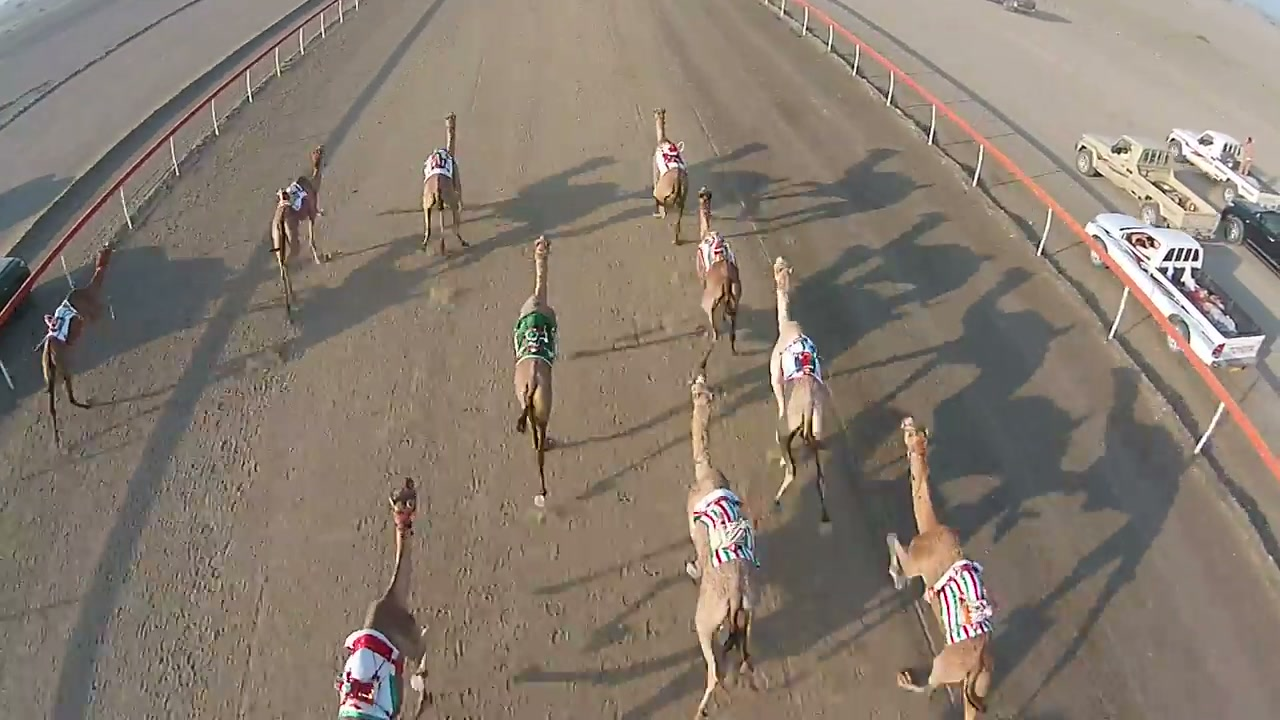animal_foot_print: (115, 309, 326, 715), (540, 307, 660, 719), (428, 448, 591, 708)
